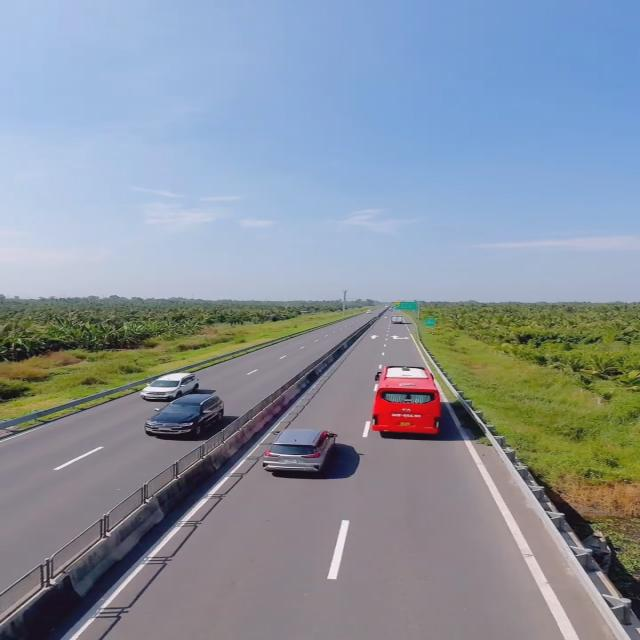bus: (368, 363, 448, 443)
car: (145, 388, 228, 443), (260, 427, 344, 478), (142, 370, 198, 399)
